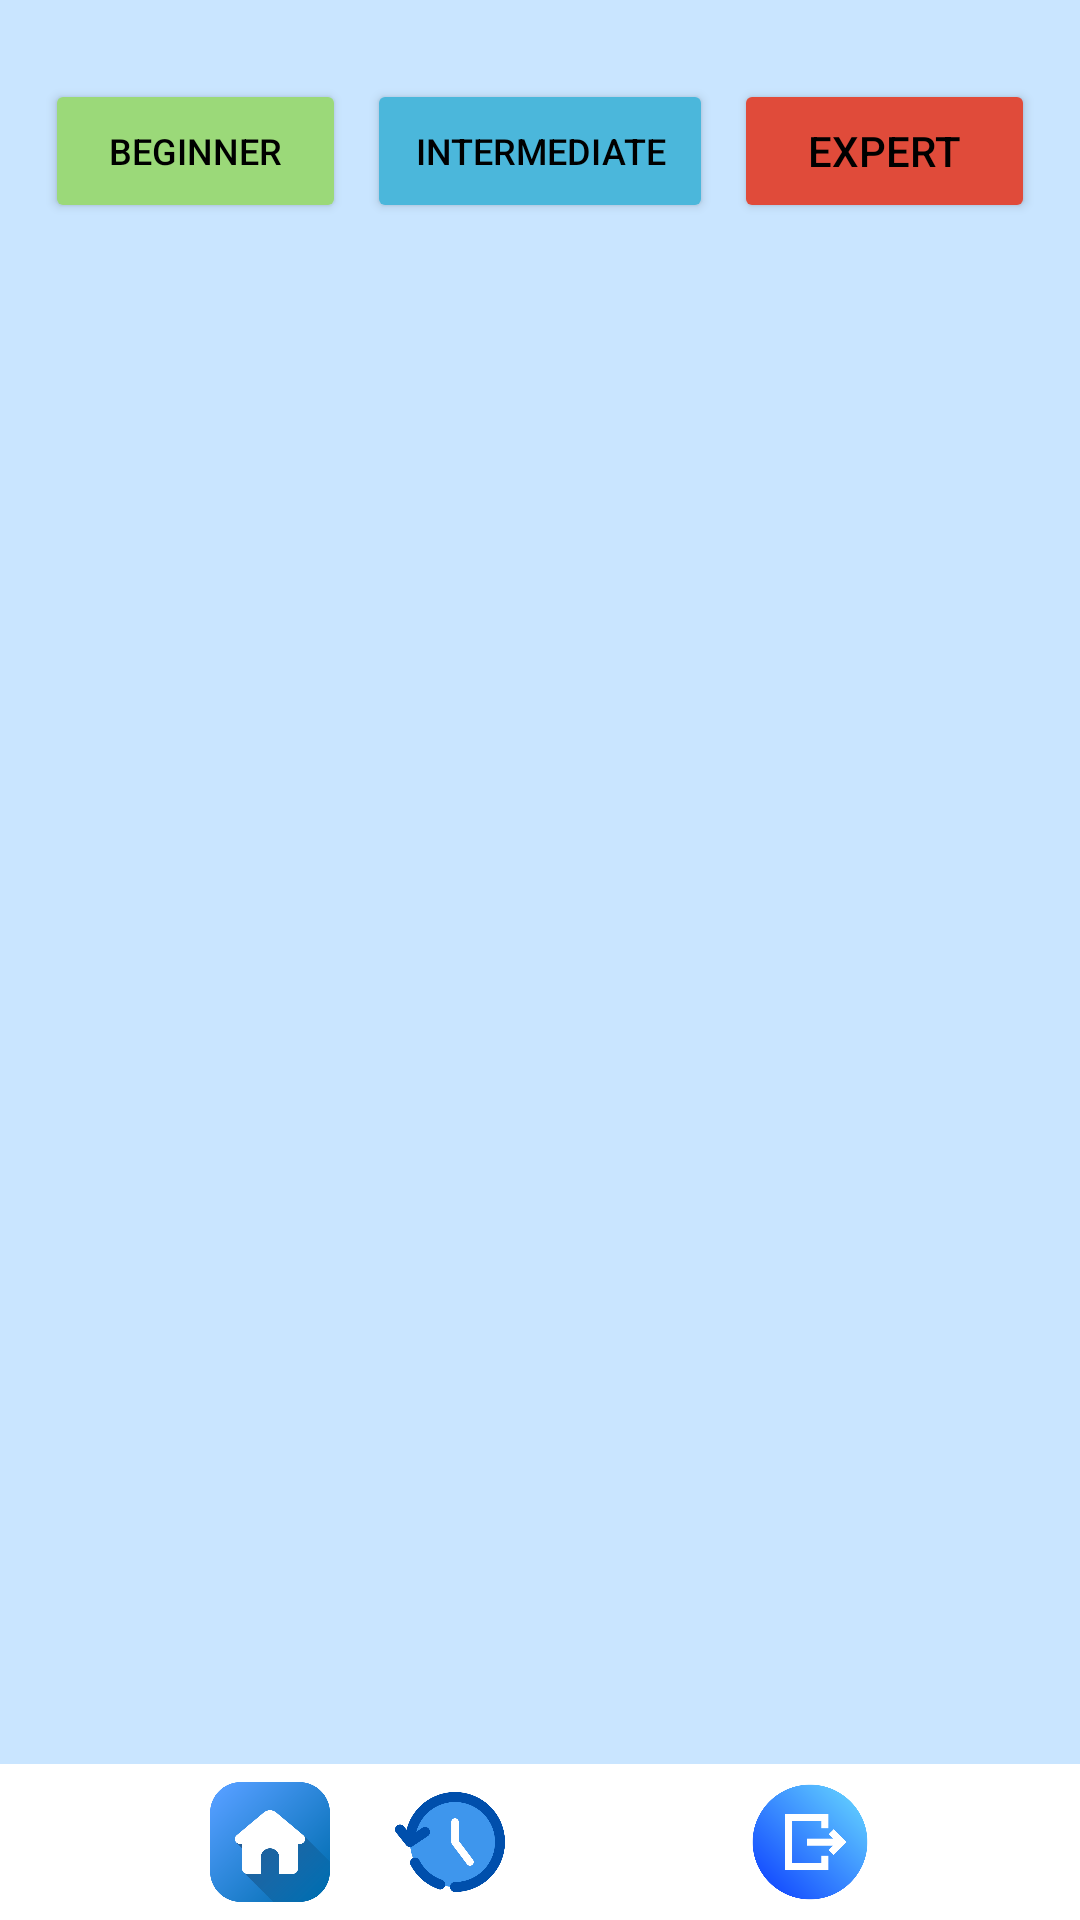

Named icons in this screenshot (1080*1920) and their centers, (x,y):
clock: (450,1842)
home: (270,1842)
log: (810,1842)
